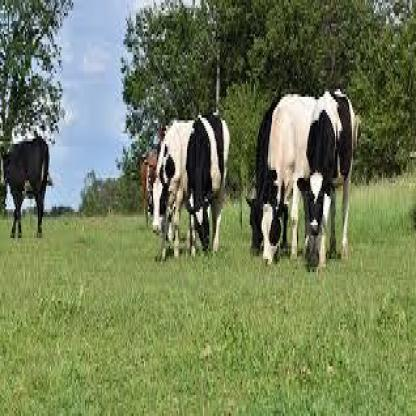cow: (147, 110, 232, 264), (259, 91, 323, 267), (297, 85, 356, 273), (244, 96, 288, 258), (0, 134, 50, 238)
